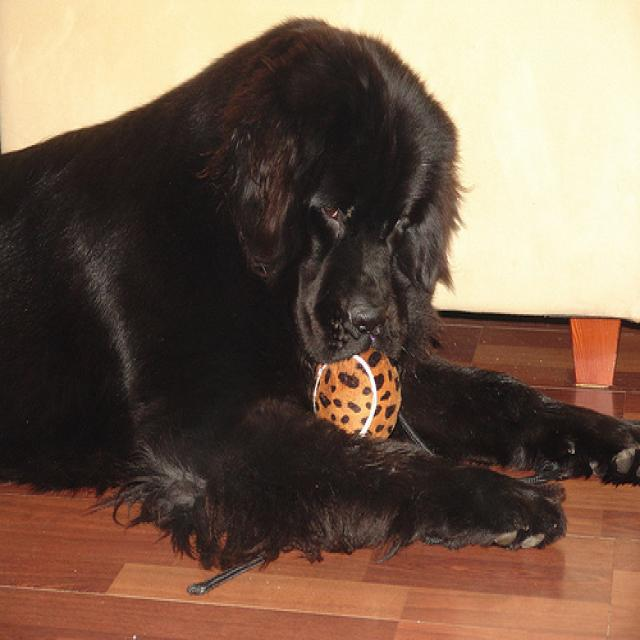dog-newfoundland: (1, 5, 637, 567)
